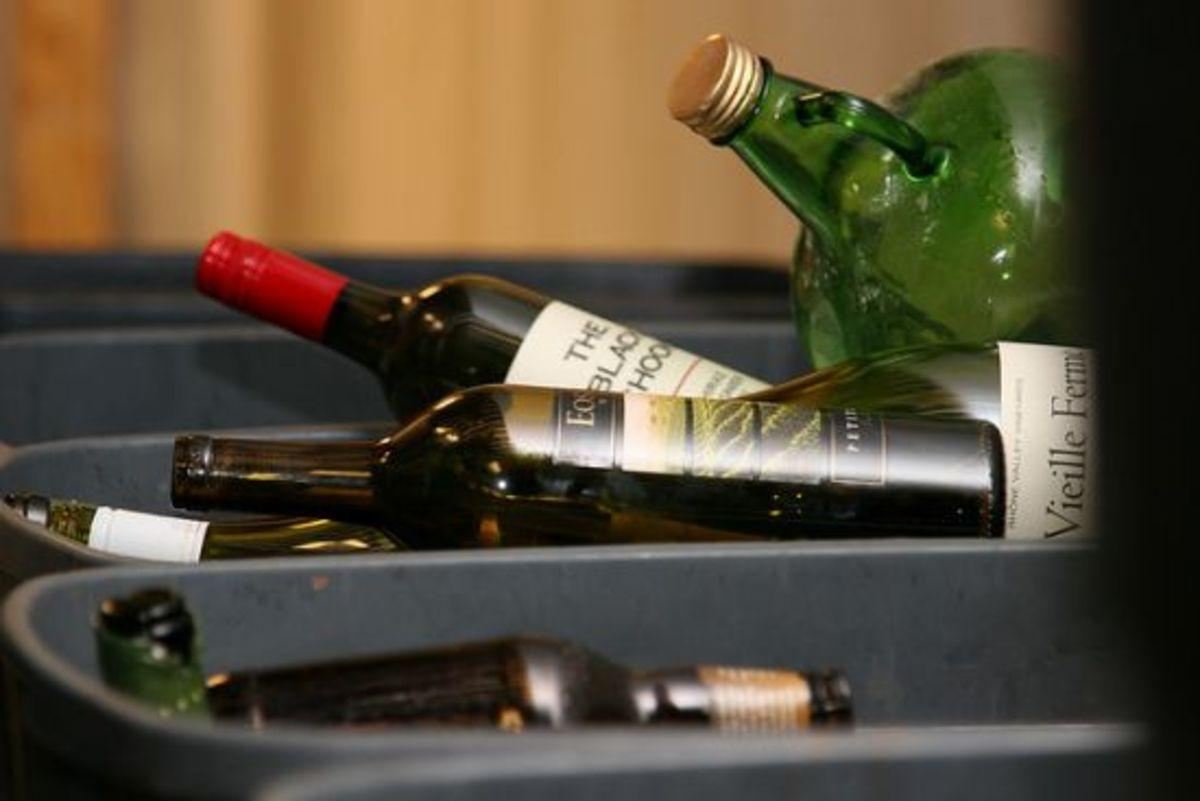glass: (169, 337, 1105, 555), (663, 27, 1124, 349), (179, 229, 786, 397), (210, 637, 858, 743), (14, 484, 394, 569), (84, 589, 214, 736)
